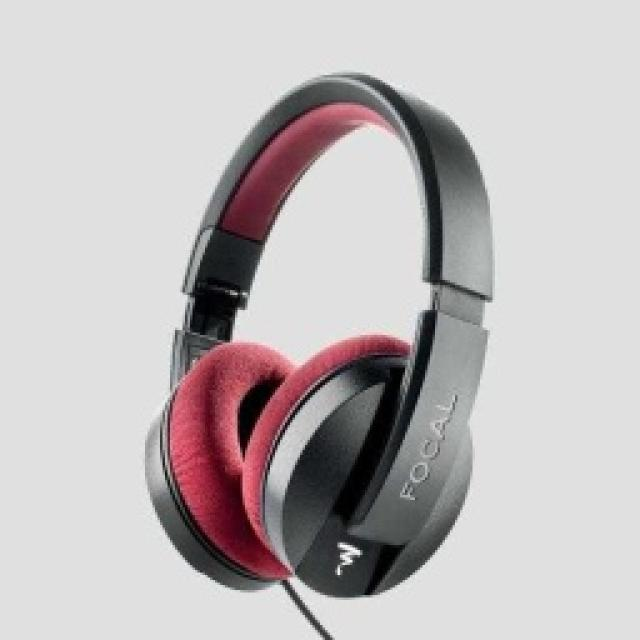headphones: (143, 68, 495, 598)
